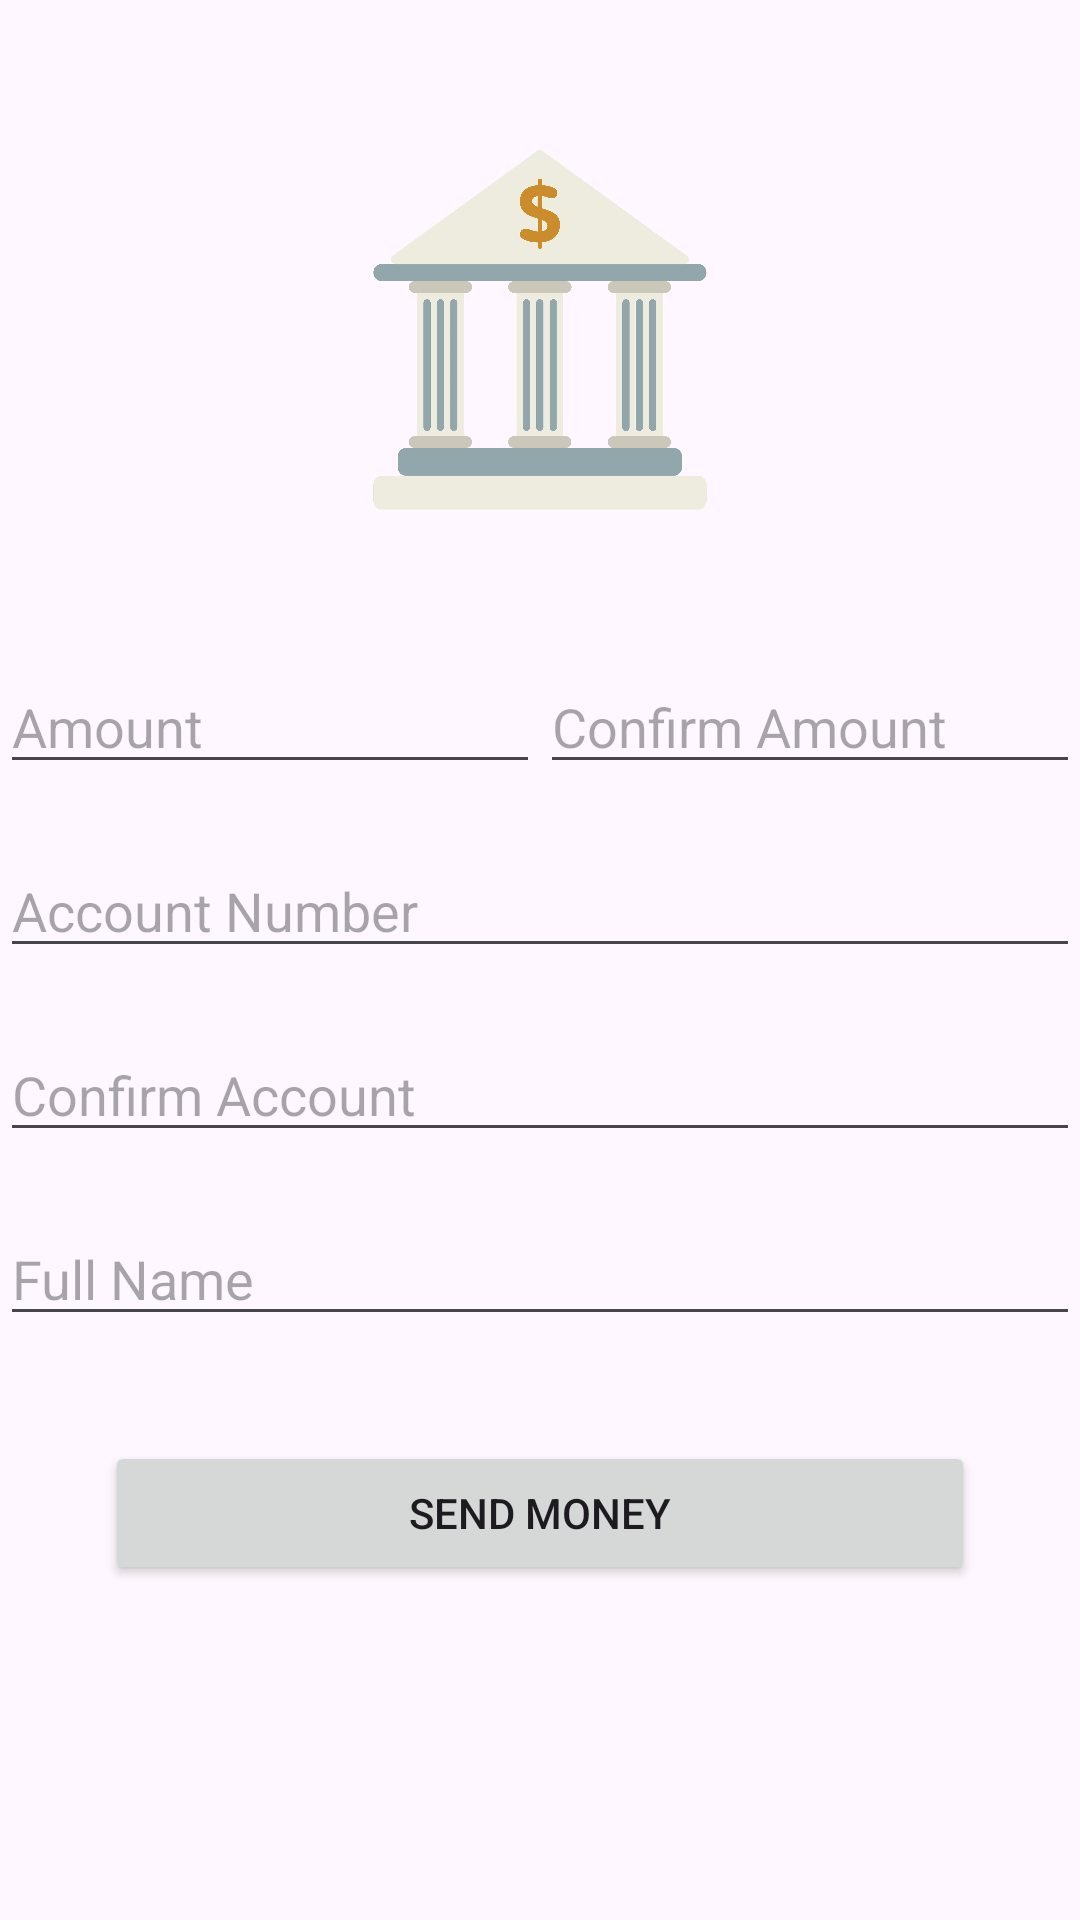

Locate icon controls on the screen. Image size 1080px×1920px, boxes as BBox(x1, y1, x2, y2).
bankimage: BBox(373, 150, 707, 510)
